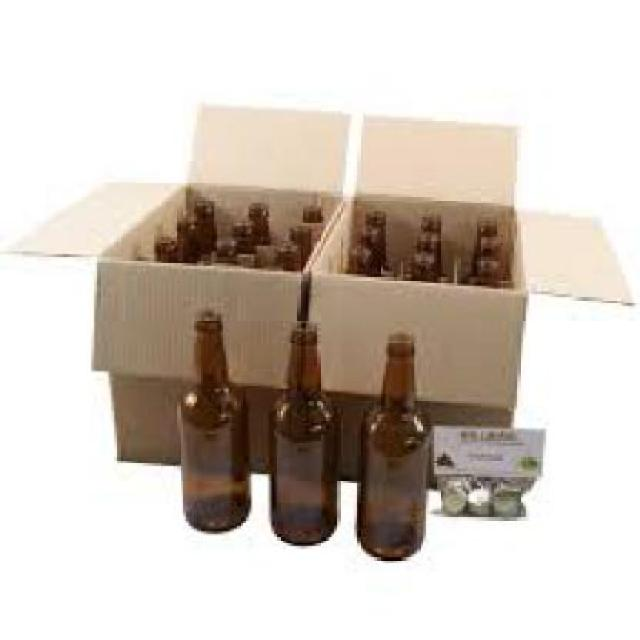kaca: (174, 306, 249, 534), (354, 331, 426, 560), (266, 320, 337, 546), (463, 257, 500, 289), (190, 200, 212, 251), (246, 200, 269, 240), (406, 249, 434, 280), (346, 237, 371, 269), (177, 216, 197, 256), (271, 243, 300, 266), (472, 232, 497, 257), (414, 226, 437, 249), (474, 212, 500, 232), (286, 217, 306, 243), (230, 220, 252, 243), (366, 203, 386, 228), (212, 234, 232, 257), (152, 236, 175, 256), (363, 220, 380, 246), (297, 203, 317, 220), (420, 211, 431, 226)
